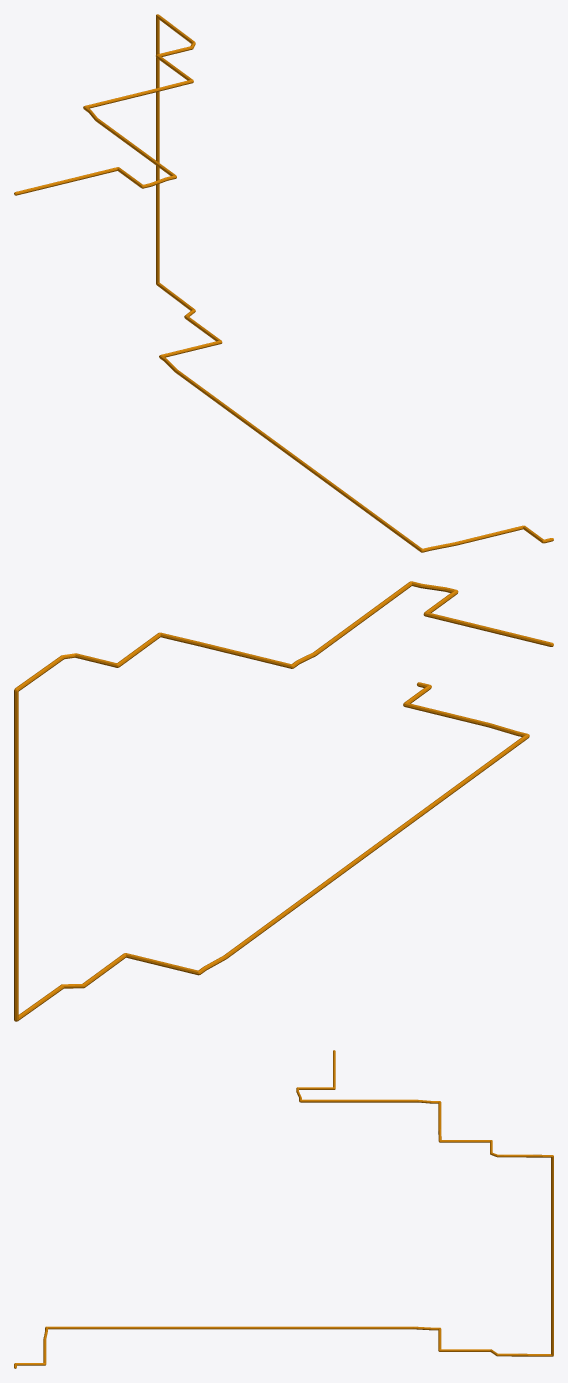
The picture shows the model from 3 angles, top to bottom: view 1: azimuth 30°, elevation 25°; view 2: azimuth 150°, elevation 25°; view 3: azimuth 270°, elevation 25°; orthographic projection. The views are drawn at different scales.
Size of the model in its own units: 1909 by 1520 by 3687.
